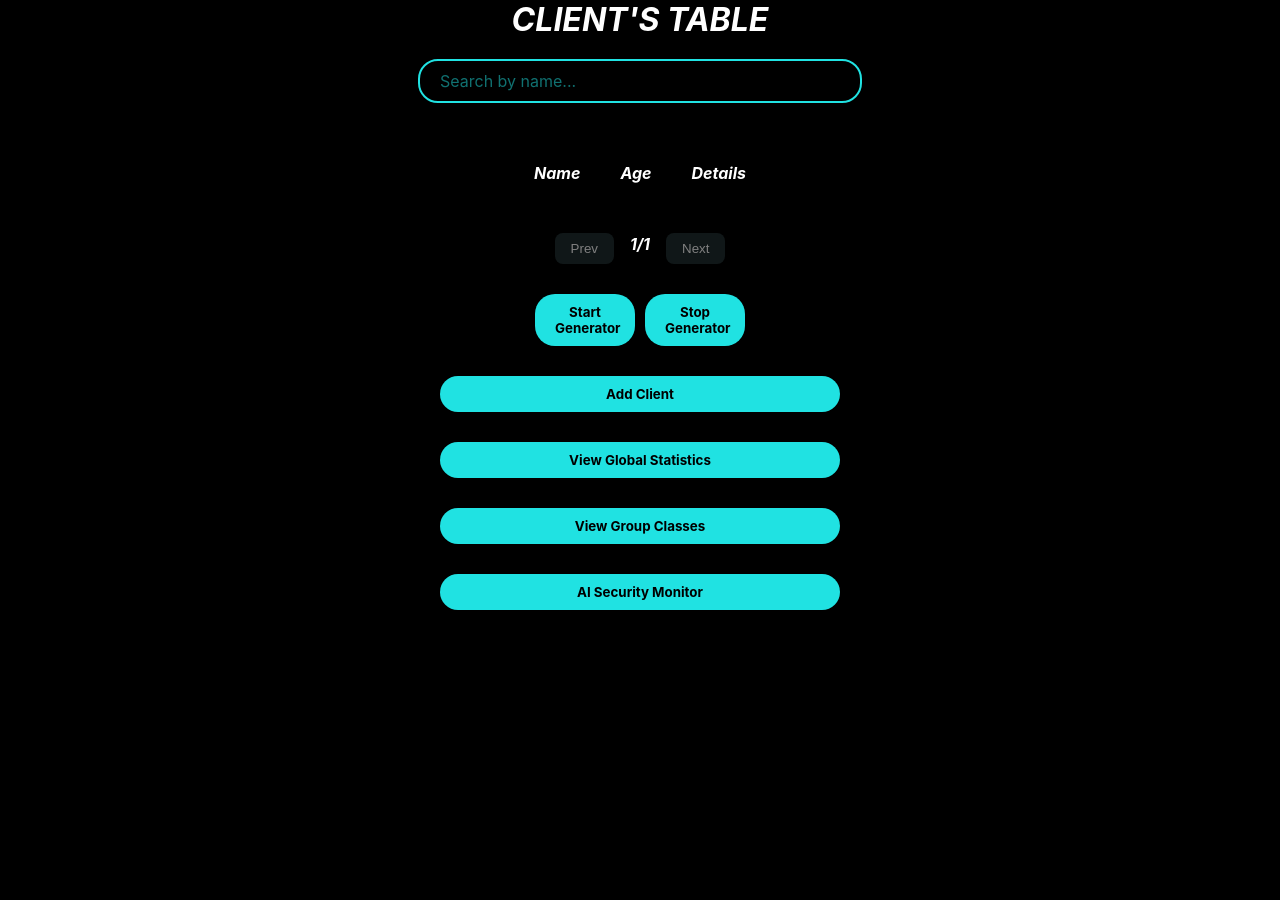
Scenario: DashboardPage › opens dashboard modal when button is clicked
The image size is (1280, 900).
Step 1. Click the button "View Global Statistics" → point(640, 460), box x1=440 y1=442 x2=840 y2=478
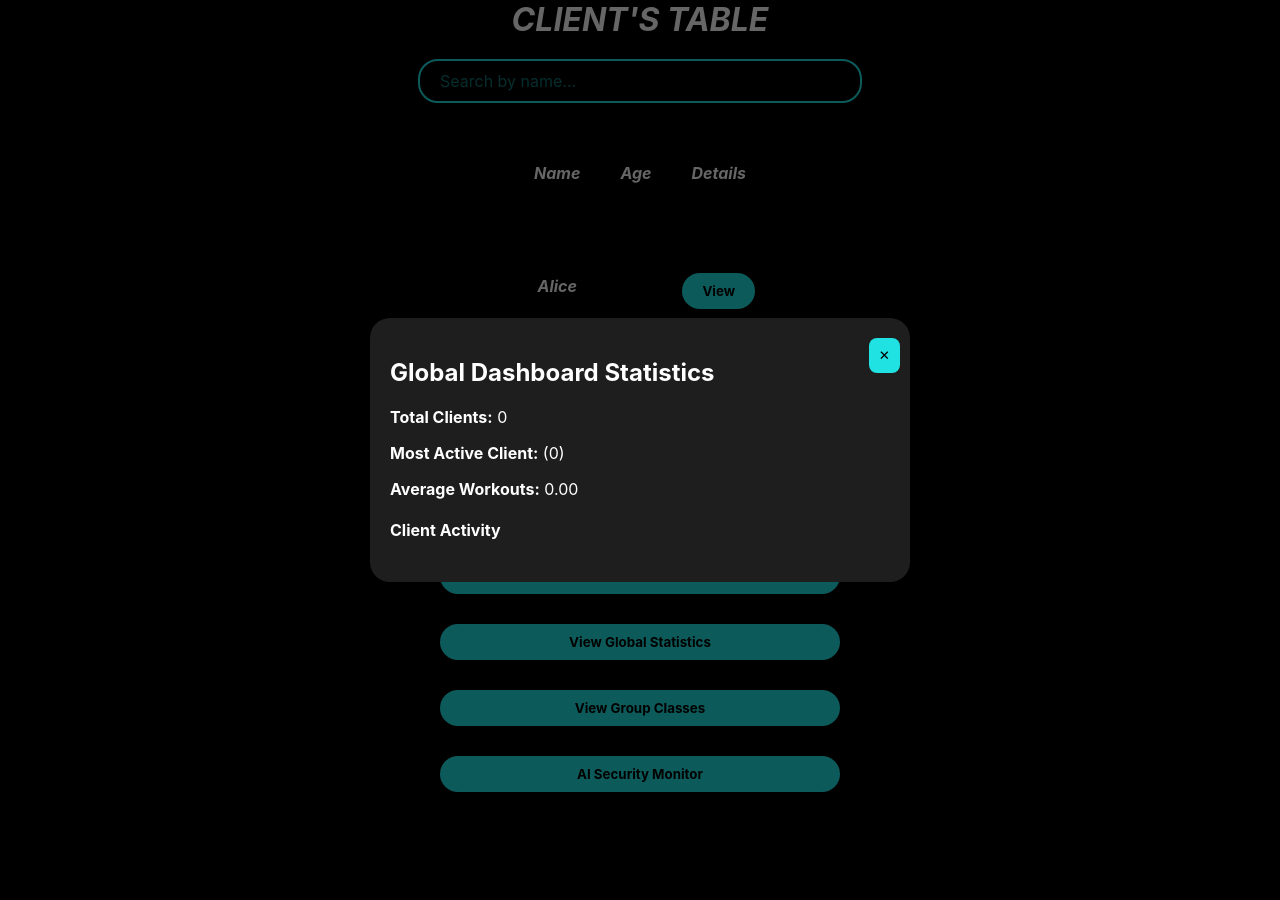
Result: the heading "Global Dashboard Statistics" is shown at x1=390 y1=358 x2=714 y2=387
